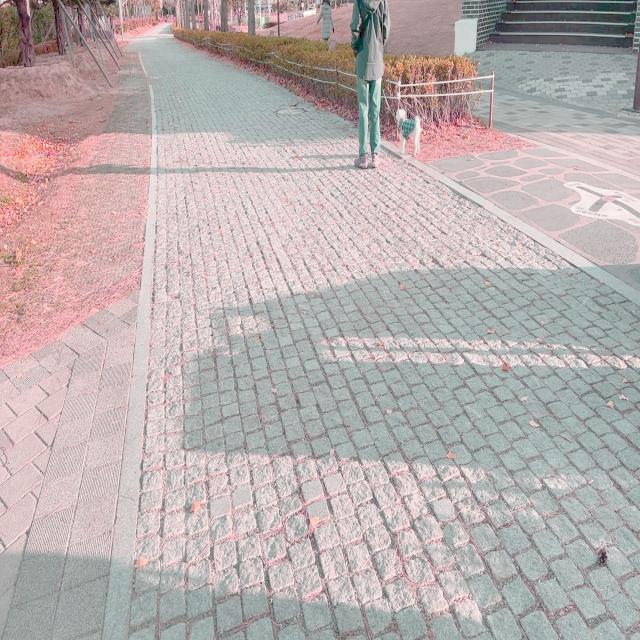Leashed_Dog: (368, 69, 420, 157)
